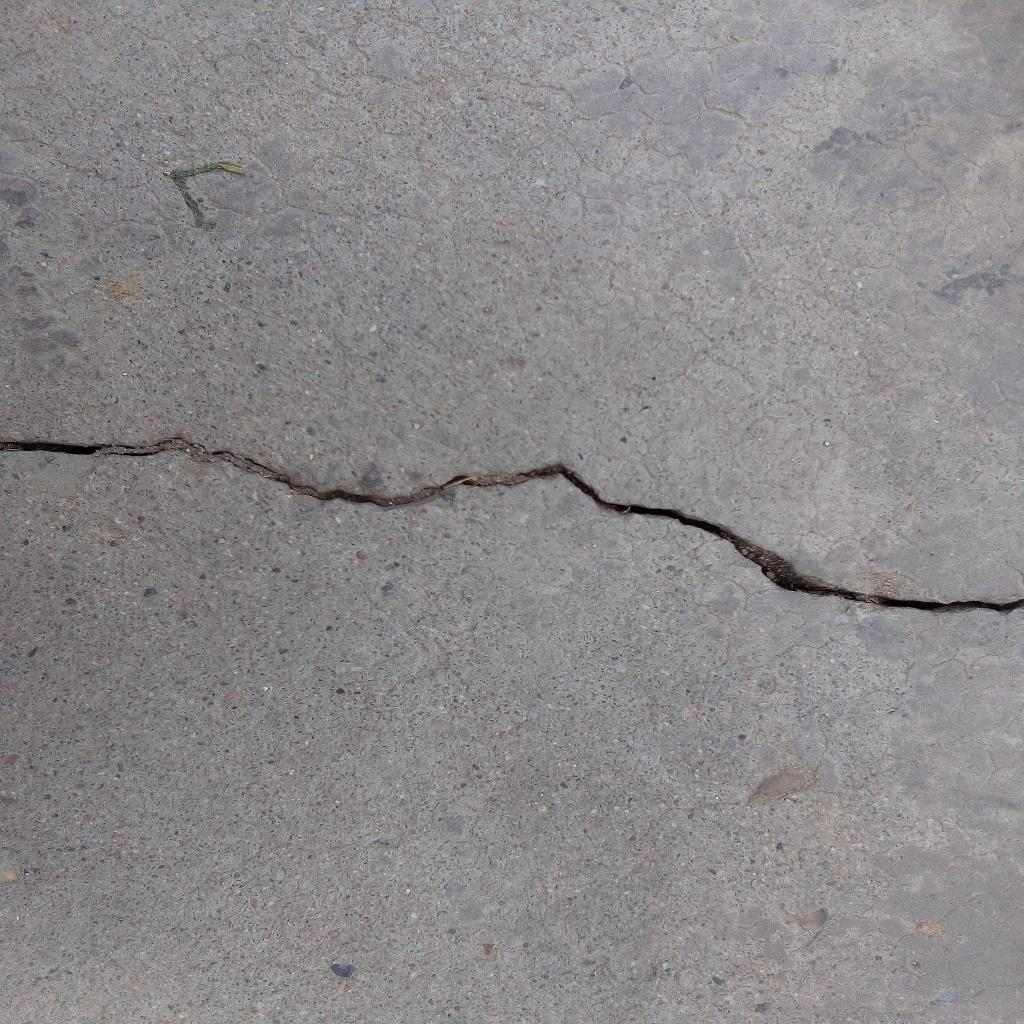Crack: (1, 433, 1024, 618)
